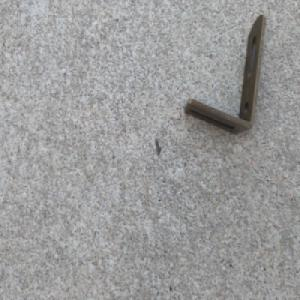MetalPart: (184, 12, 267, 137)
